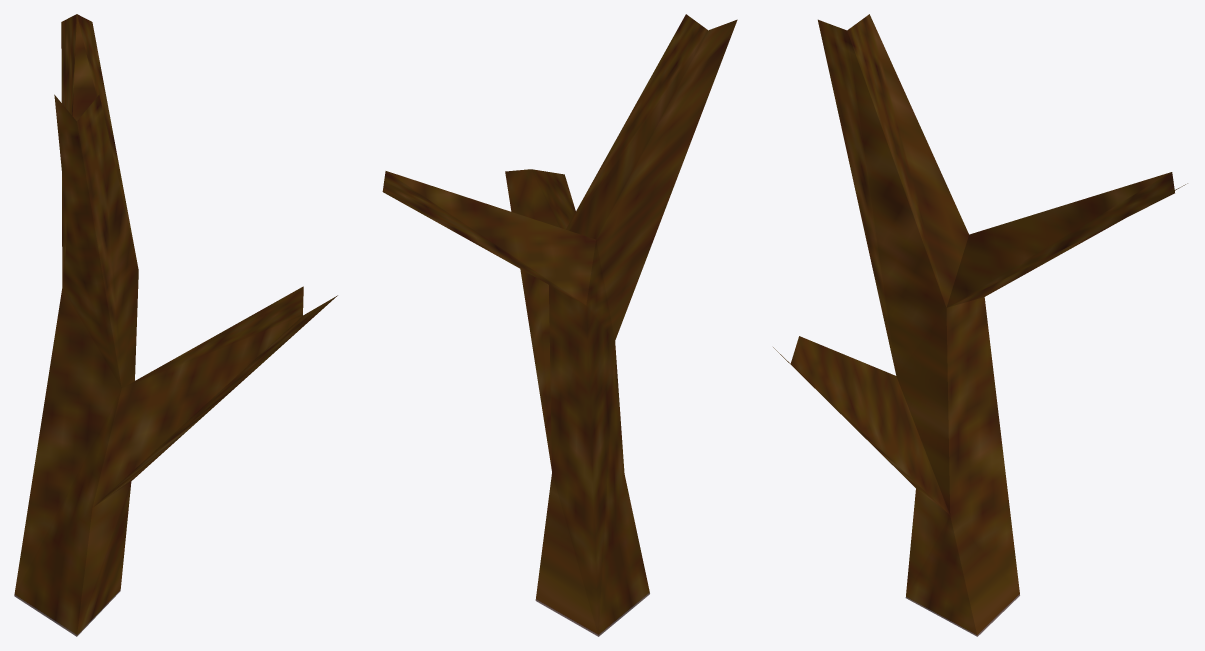
The model's file is treebranch06.glb.
3 renders of one model, left to right at view 1: azimuth 30°, elevation 25°; view 2: azimuth 150°, elevation 25°; view 3: azimuth 270°, elevation 25°, orthographic.
Parts seen in each view (by area): view 1: treebranch06; view 2: treebranch06; view 3: treebranch06.
Boxes of the visible parts, x1,y1,x2,y2 form: treebranch06: (14,14,337,636); treebranch06: (382,14,737,636); treebranch06: (773,14,1187,636).
Bounding box in the file's own units: 300 × 652 × 445.
Materials: 1 (1 with a texture image).
